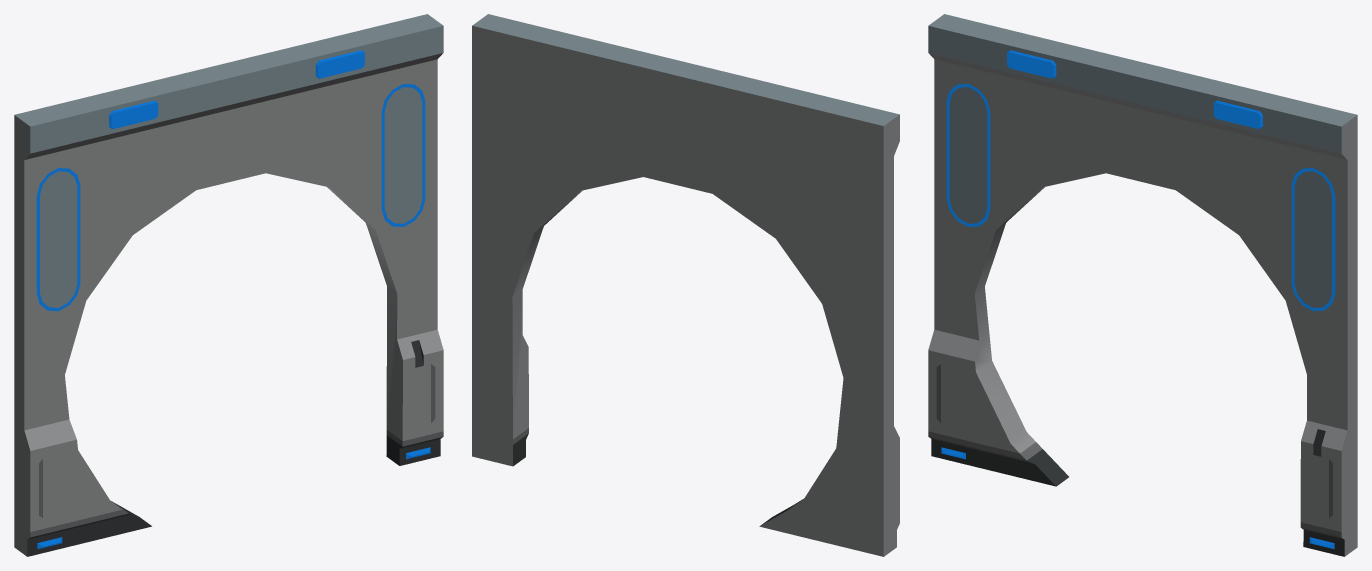
The model's file is Wall_type_B_055.glb.
3 views of the same model, side by side, from view 1: azimuth 30°, elevation 25°; view 2: azimuth 150°, elevation 25°; view 3: azimuth 330°, elevation 25° (orthographic).
Parts seen in each view (by area): view 1: Wall_type_B_055; view 2: Wall_type_B_055; view 3: Wall_type_B_055.
Part boxes in pixels (bbox=[...]): Wall_type_B_055: bbox=[14, 14, 443, 556]; Wall_type_B_055: bbox=[472, 14, 899, 556]; Wall_type_B_055: bbox=[928, 14, 1357, 556].
Size of the model in its own units: 4 by 4 by 0.2898.
2 materials, 2 textured.
